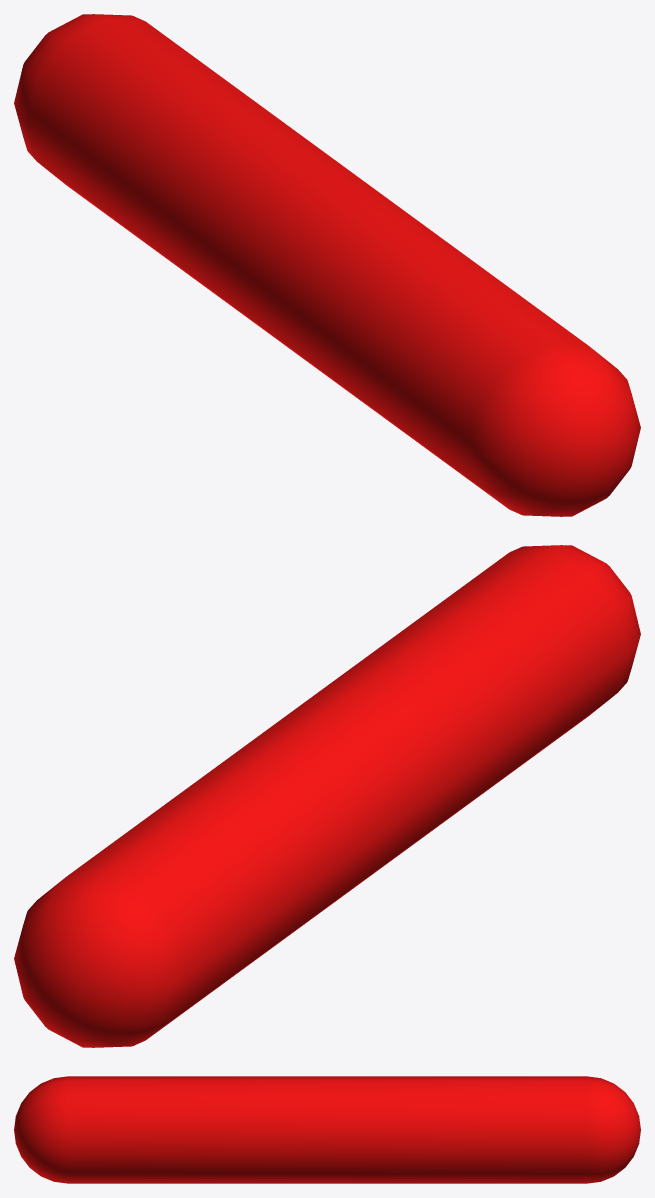
File: Mapa04_tiroA.FBX
3 renders of one model, top to bottom at view 1: azimuth 30°, elevation 25°; view 2: azimuth 150°, elevation 25°; view 3: azimuth 270°, elevation 25°, orthographic. The views are drawn at different scales.
Parts seen in each view (by area): view 1: TiroA_Mapa04; view 2: TiroA_Mapa04; view 3: TiroA_Mapa04.
Part boxes in pixels (x1,y1,x2,y2): TiroA_Mapa04: [14, 14, 640, 516]; TiroA_Mapa04: [14, 545, 640, 1047]; TiroA_Mapa04: [14, 1076, 640, 1183].
Size of the model in its own units: 8.98 by 8.98 by 52.32.
